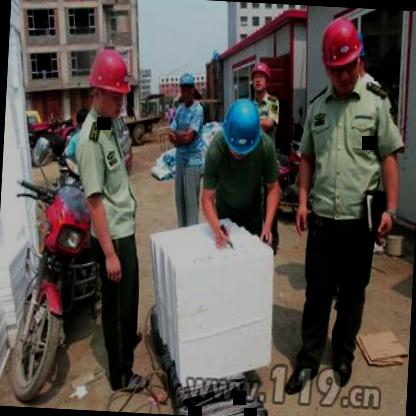helmet: (317, 15, 363, 96), (85, 44, 132, 123), (219, 96, 264, 158), (250, 60, 272, 92), (177, 70, 197, 103)
